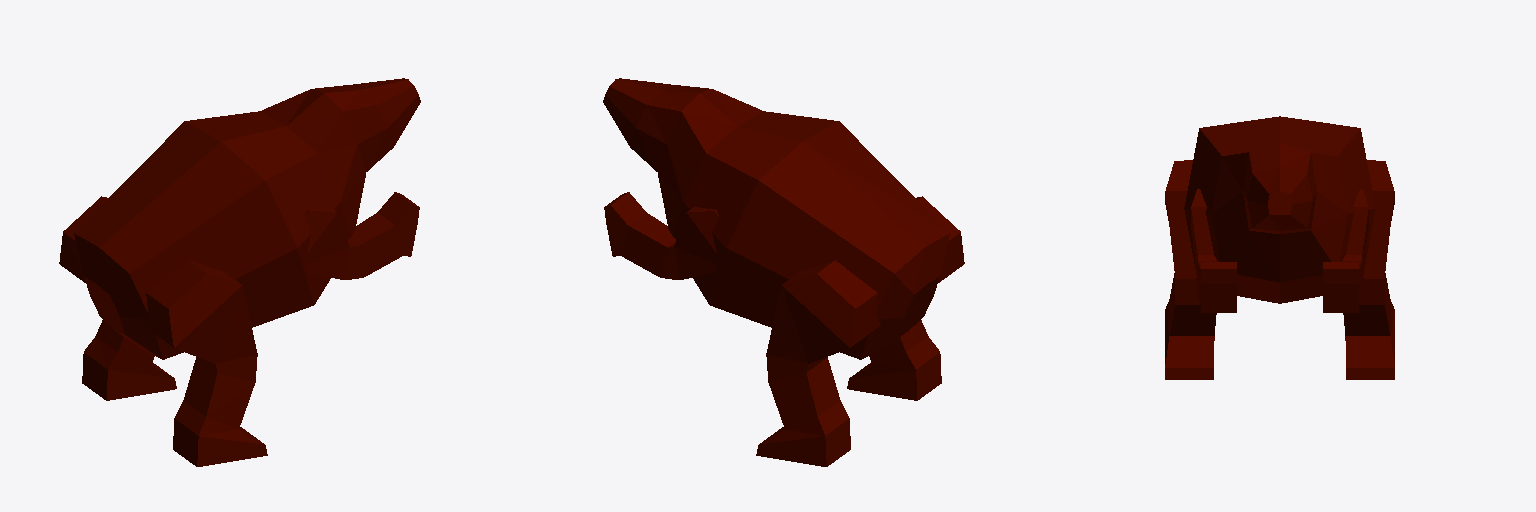
The model's file is bear.obj.
3 views of the same model, side by side, from view 1: azimuth 30°, elevation 25°; view 2: azimuth 150°, elevation 25°; view 3: azimuth 270°, elevation 25° (orthographic).
Visible parts, largest first — view 1: Cube.007; view 2: Cube.007; view 3: Cube.007.
Part boxes in pixels (bbox=[...]): Cube.007: bbox=[59, 78, 420, 466]; Cube.007: bbox=[603, 78, 964, 466]; Cube.007: bbox=[1165, 116, 1394, 379].
Size of the model in its own units: 1.91 by 1.67 by 1.19.